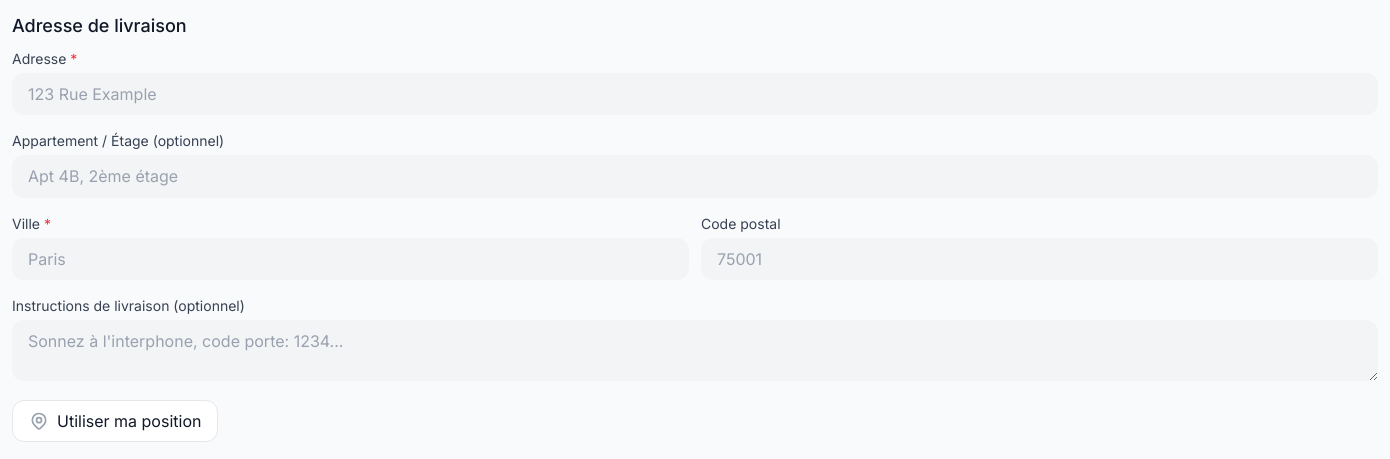
Scenario: DeliveryAddressForm › geolocation › shows loading state during geolocation
The image size is (1390, 459).
Click the button "Utiliser ma position" at coordinates (115, 421), box [12,400,218,442]
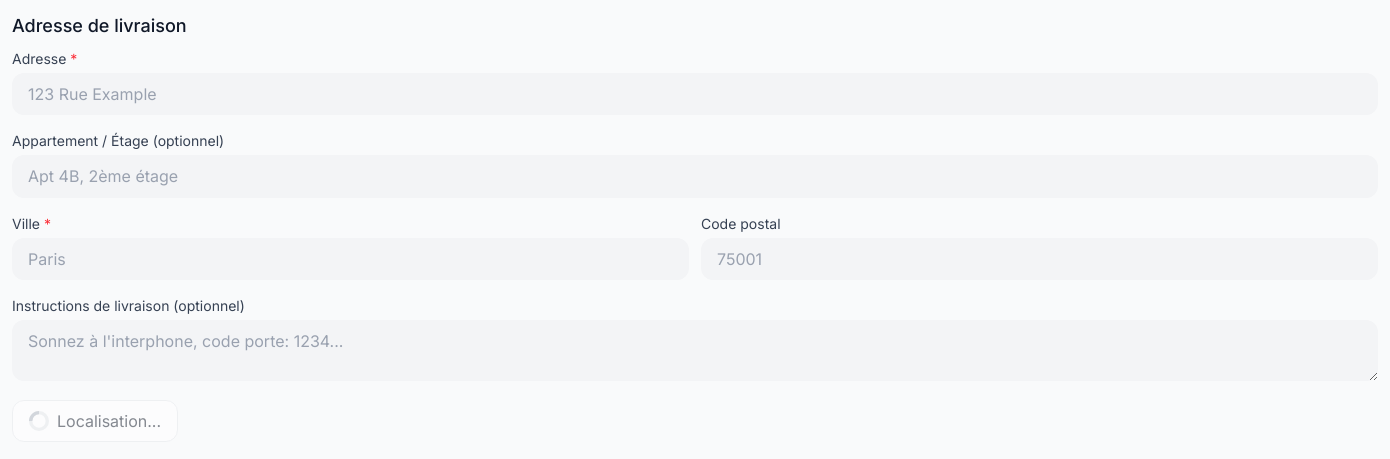
Expected: the text "Localisation..." is shown, [12,400,178,442]
